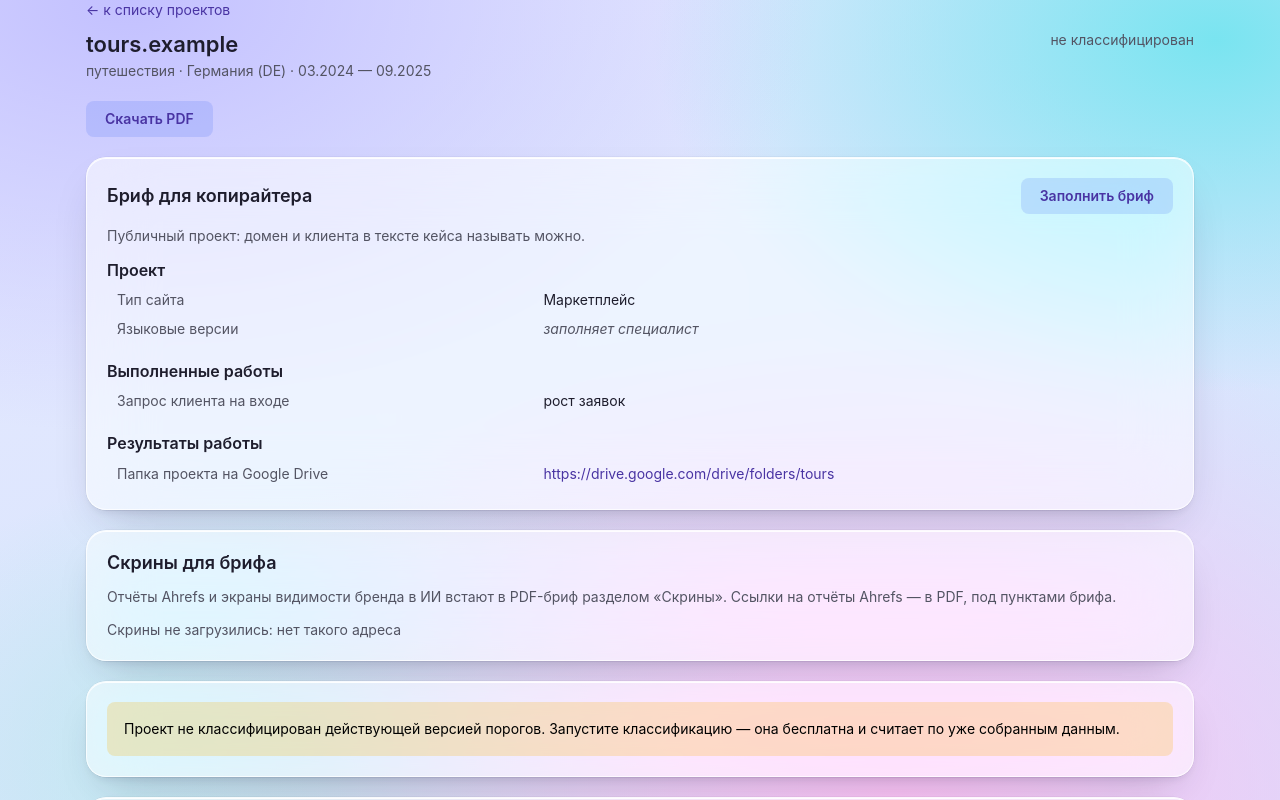
бриф на карточке: правка › M30: уходит только изменённое и NDA; карточка показывает сохранённое
This screenshot has width=1280, height=800.
Step 1. Click the button "Заполнить бриф" → [1097, 196], box left=1021, top=178, right=1173, bottom=214
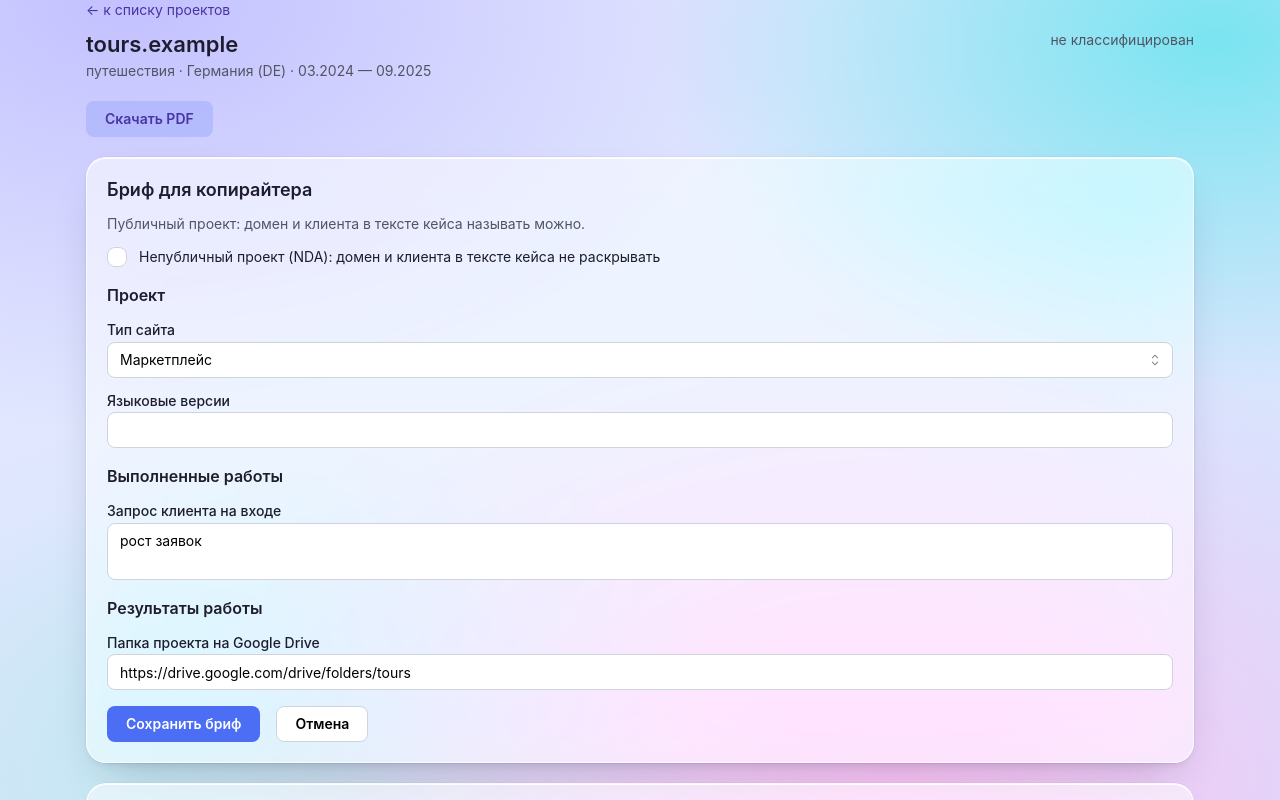
Step 2. Type " из органики" into the text box labelled "Запрос клиента на входе" → [640, 551], box left=107, top=523, right=1173, bottom=580
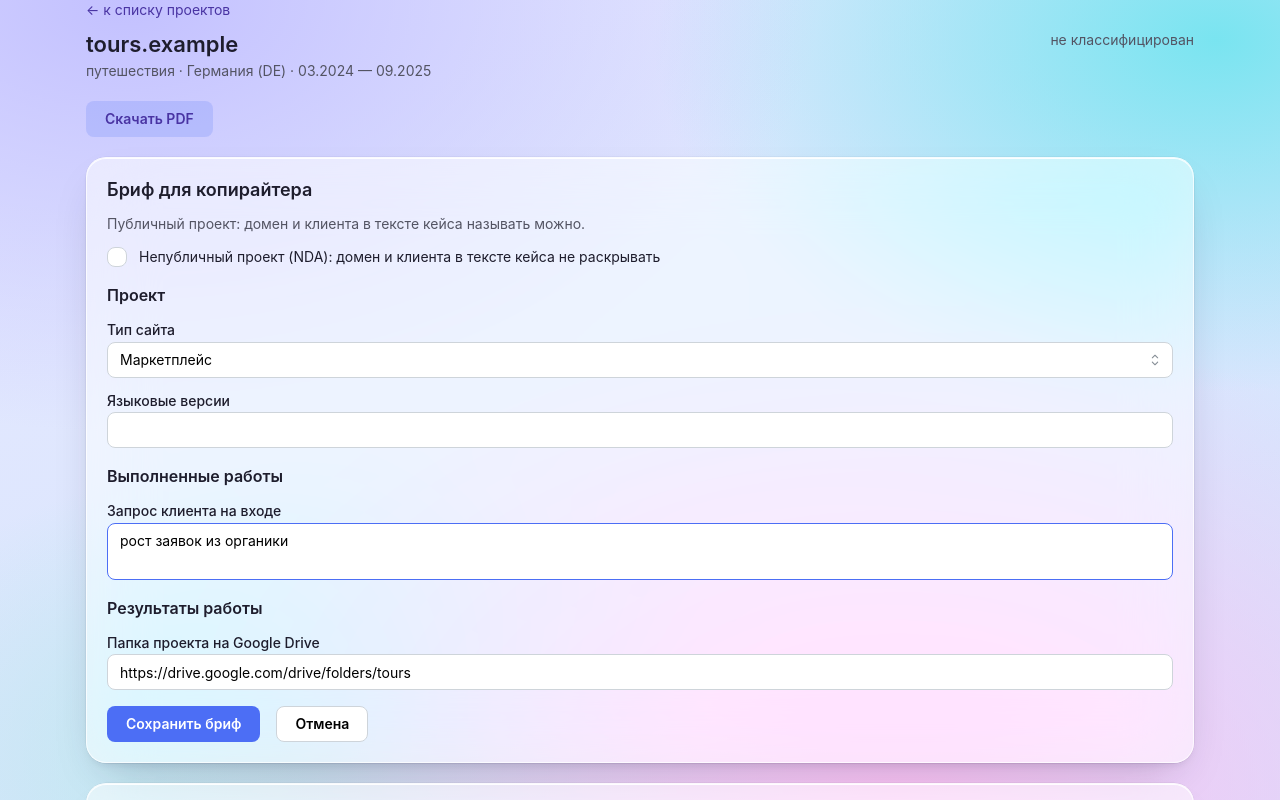
Step 3. Select "Сервис / SaaS" in the dropdown labelled "Тип сайта" → [640, 360], box left=107, top=342, right=1173, bottom=378
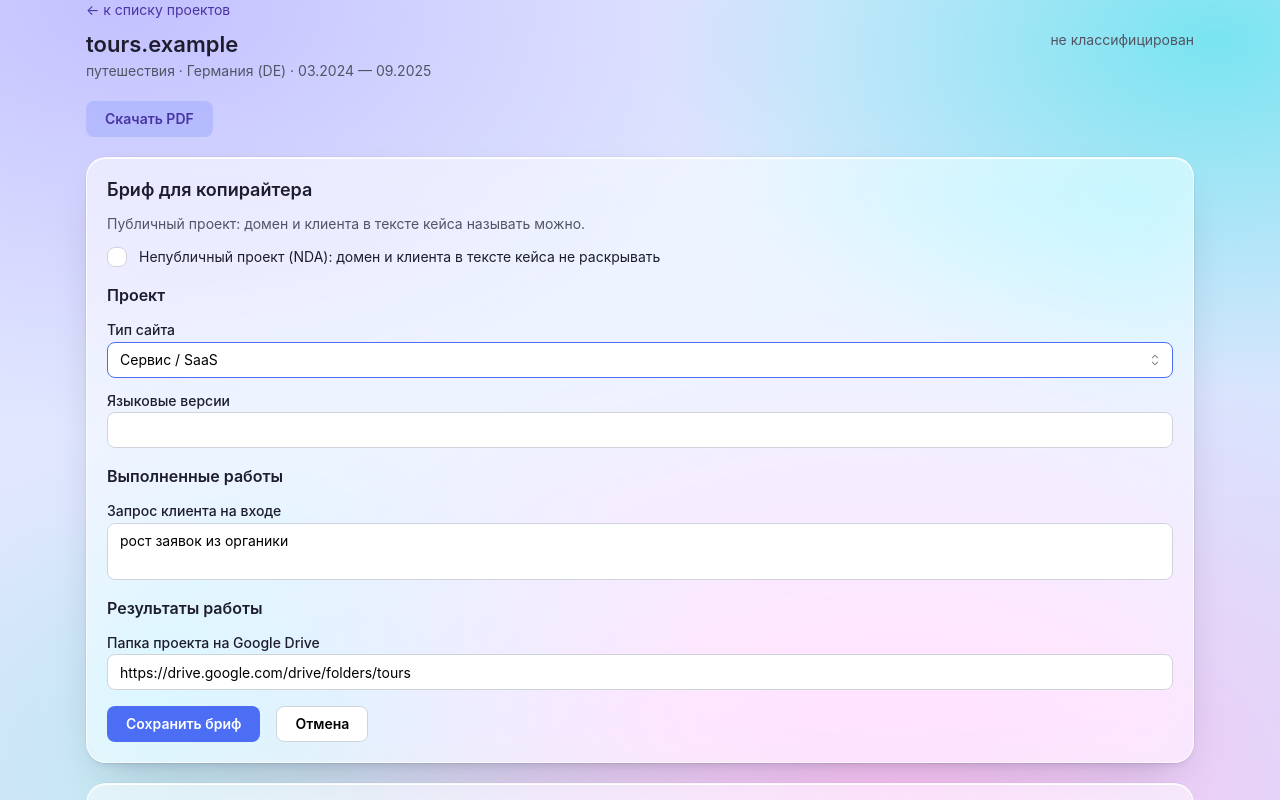
Step 4. Click the checkbox labelled "Непубличный проект" → [117, 257], box left=107, top=247, right=127, bottom=267
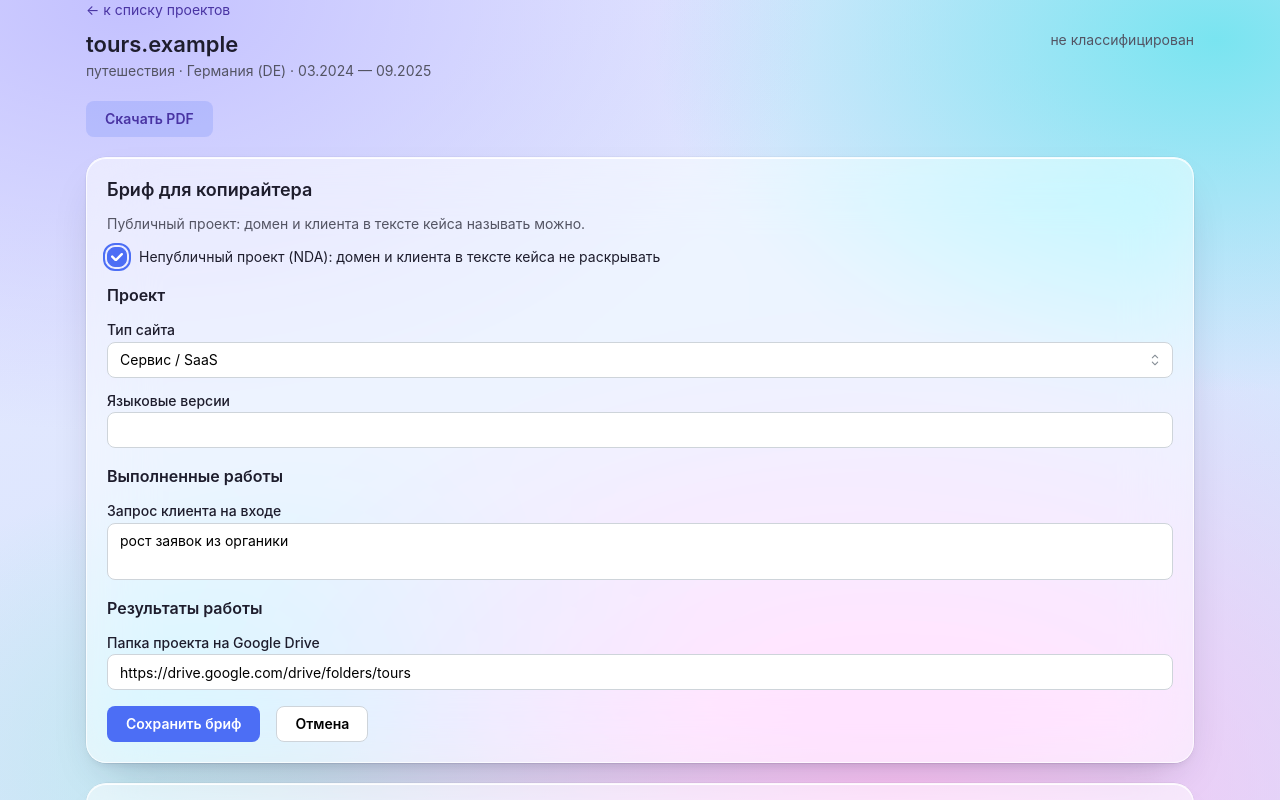
Step 5. Click the button "Сохранить бриф" → [184, 724], box left=107, top=706, right=260, bottom=742
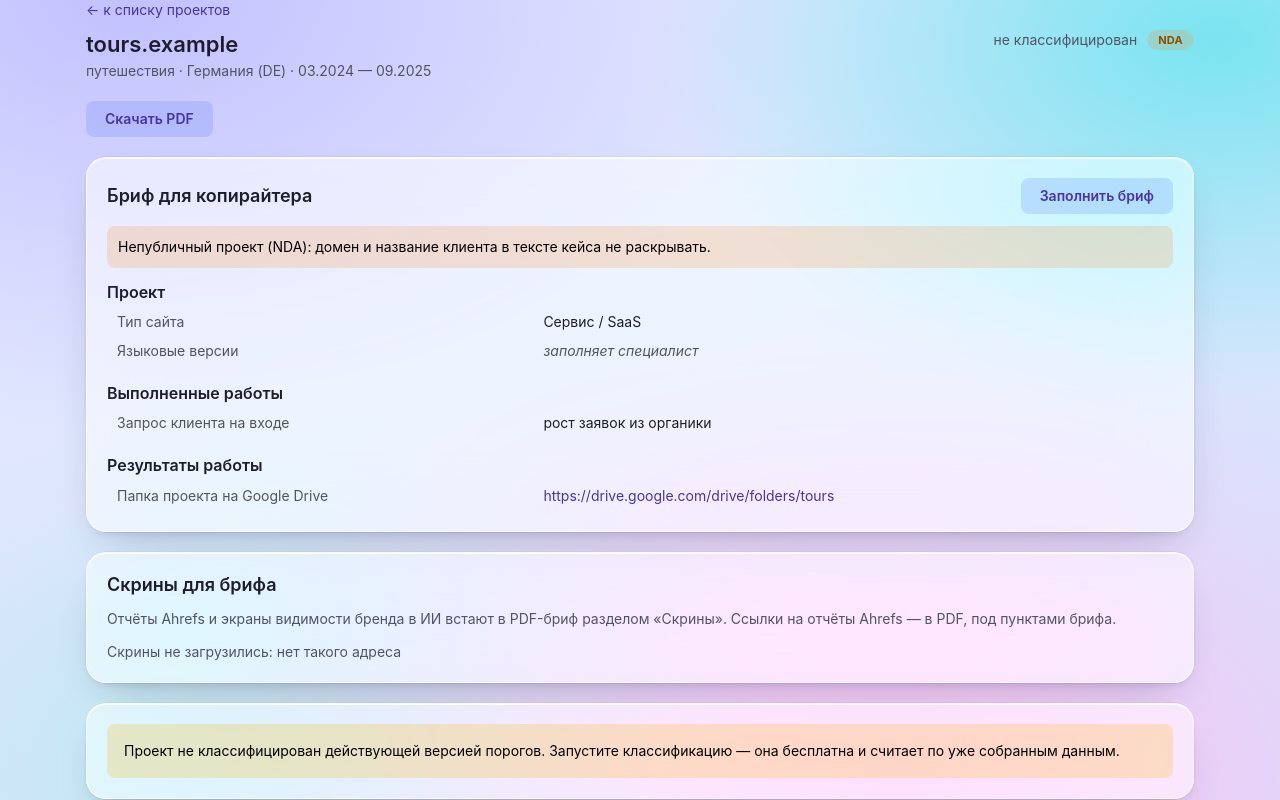
Expected: the text "Сервис / SaaS" is shown, left=543, top=314, right=641, bottom=330
Expected: the text "Непубличный проект (NDA)" is shown, left=118, top=238, right=711, bottom=255
